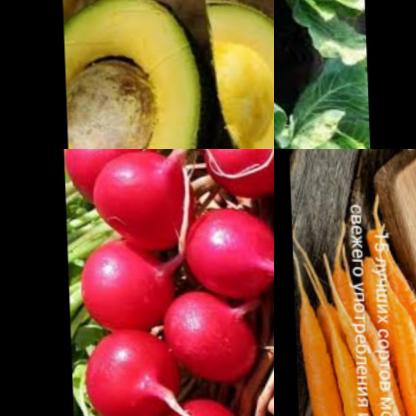avocado: (60, 0, 193, 149), (196, 0, 274, 149)
cabbage: (280, 114, 363, 149)
carrot: (293, 285, 365, 416), (338, 297, 416, 416), (367, 229, 416, 416), (321, 316, 402, 416), (380, 264, 416, 416)
rediska: (74, 235, 180, 339), (87, 152, 189, 245), (156, 289, 255, 383), (178, 203, 274, 298), (79, 326, 180, 416), (61, 149, 161, 211), (194, 149, 274, 199), (150, 395, 250, 416)
